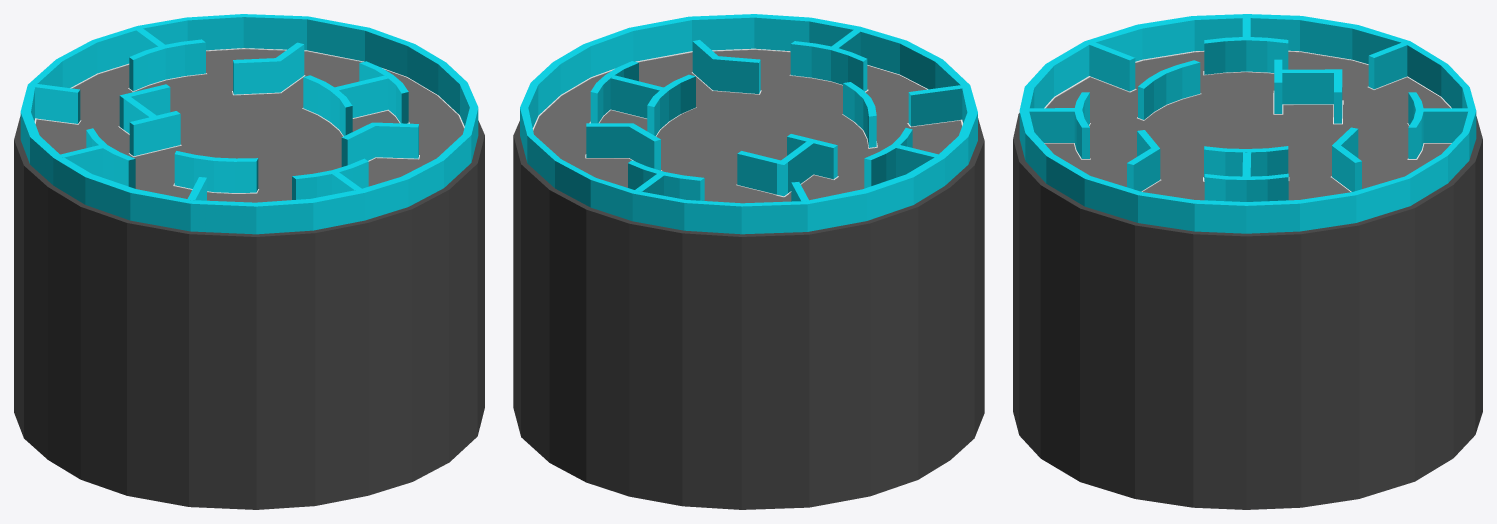
File: Level_17.FBX
3 renders of one model, left to right at view 1: azimuth 30°, elevation 25°; view 2: azimuth 150°, elevation 25°; view 3: azimuth 270°, elevation 25°, orthographic.
Parts seen in each view (by area): view 1: Base; view 2: Base; view 3: Base.
Part boxes in pixels (box(x1,y1,x2,y2)): Base: box(14, 14, 484, 509); Base: box(513, 14, 984, 509); Base: box(1013, 14, 1482, 509).
Bounding box in the file's own units: 189 × 135 × 190.
